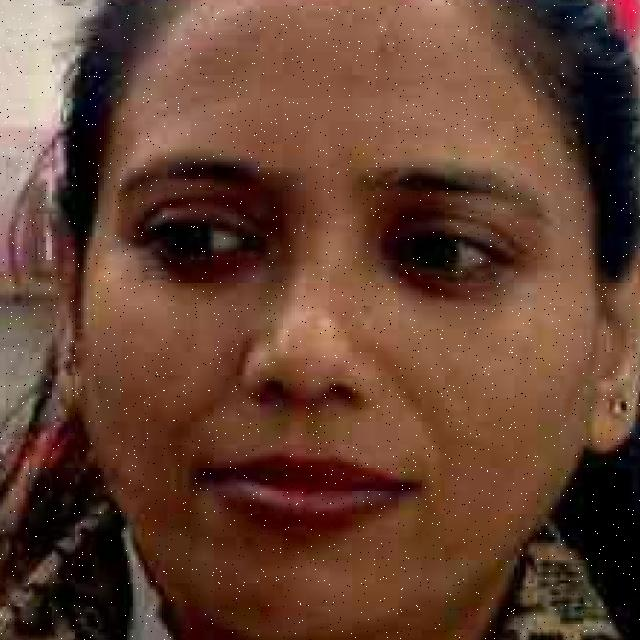puffy_eyes: (132, 238, 275, 293), (384, 259, 486, 300)
